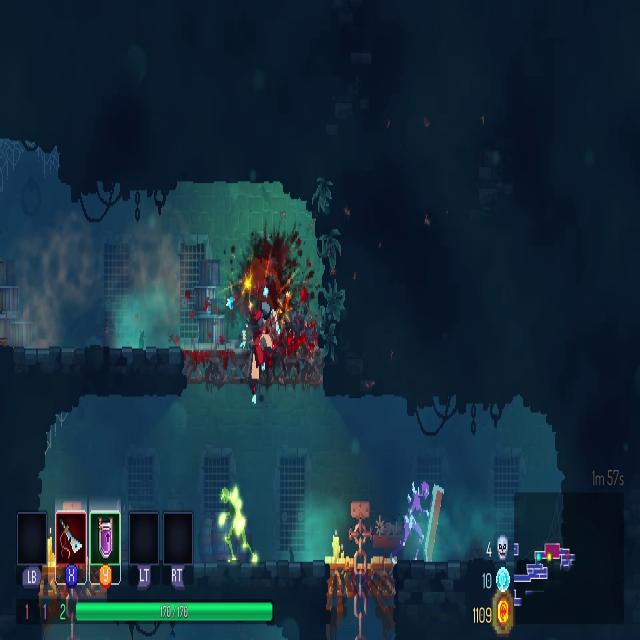agents: (227, 259, 280, 409)
enemy_green_puncher: (218, 488, 256, 565)
enemy_purple_shield: (402, 479, 443, 564)
wood_floor: (186, 341, 324, 388), (326, 554, 394, 611)
